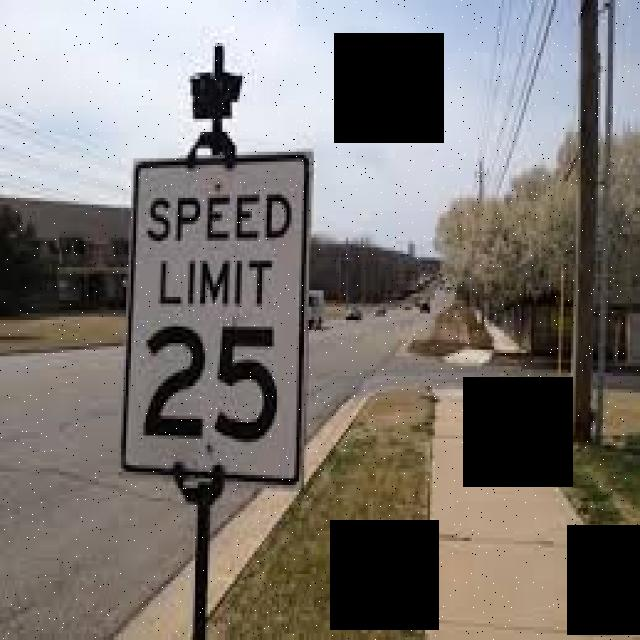regulatory: (122, 146, 316, 488)
